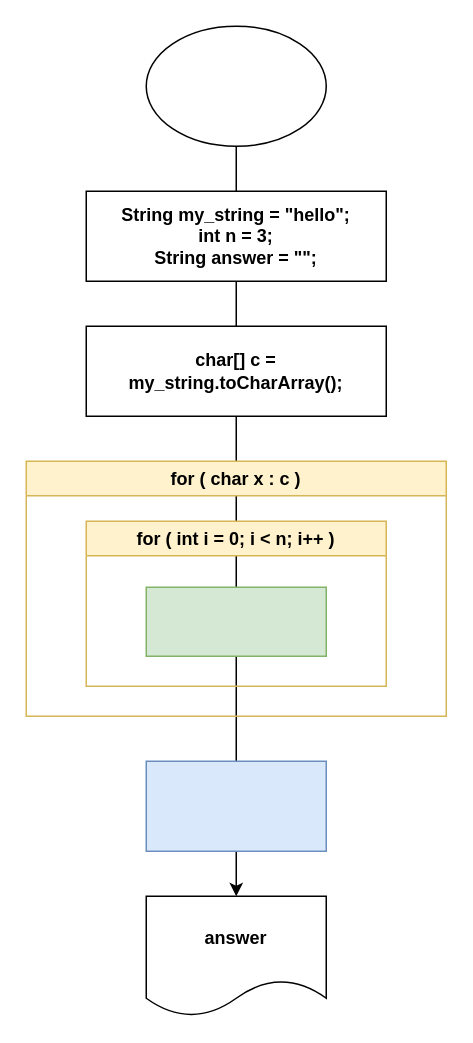
This 473x1043 diagram has some shape labels left out. The centre of each missing label's shape, as x and y in pixels:
"answer += x;" goes at point 235,621.
"return answer;" goes at point 235,805.
"메서드 호출" goes at point 235,85.
